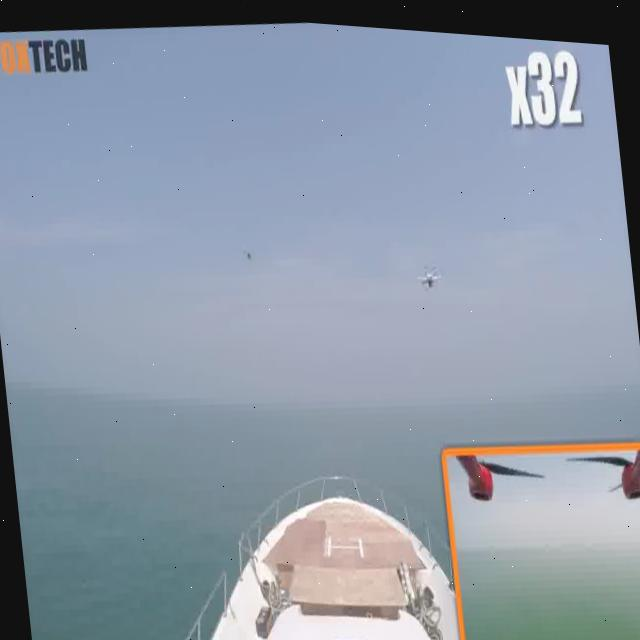drone: (409, 254, 447, 291), (236, 228, 264, 273)
